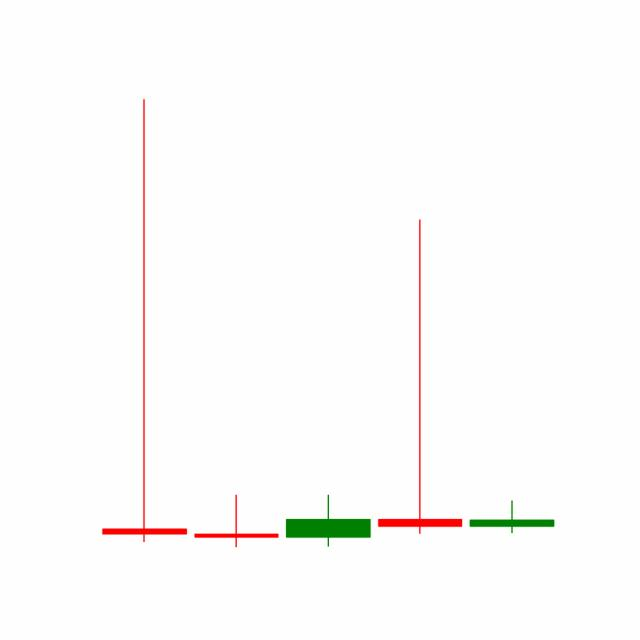Gravestone Doji: (464, 500, 558, 534)
